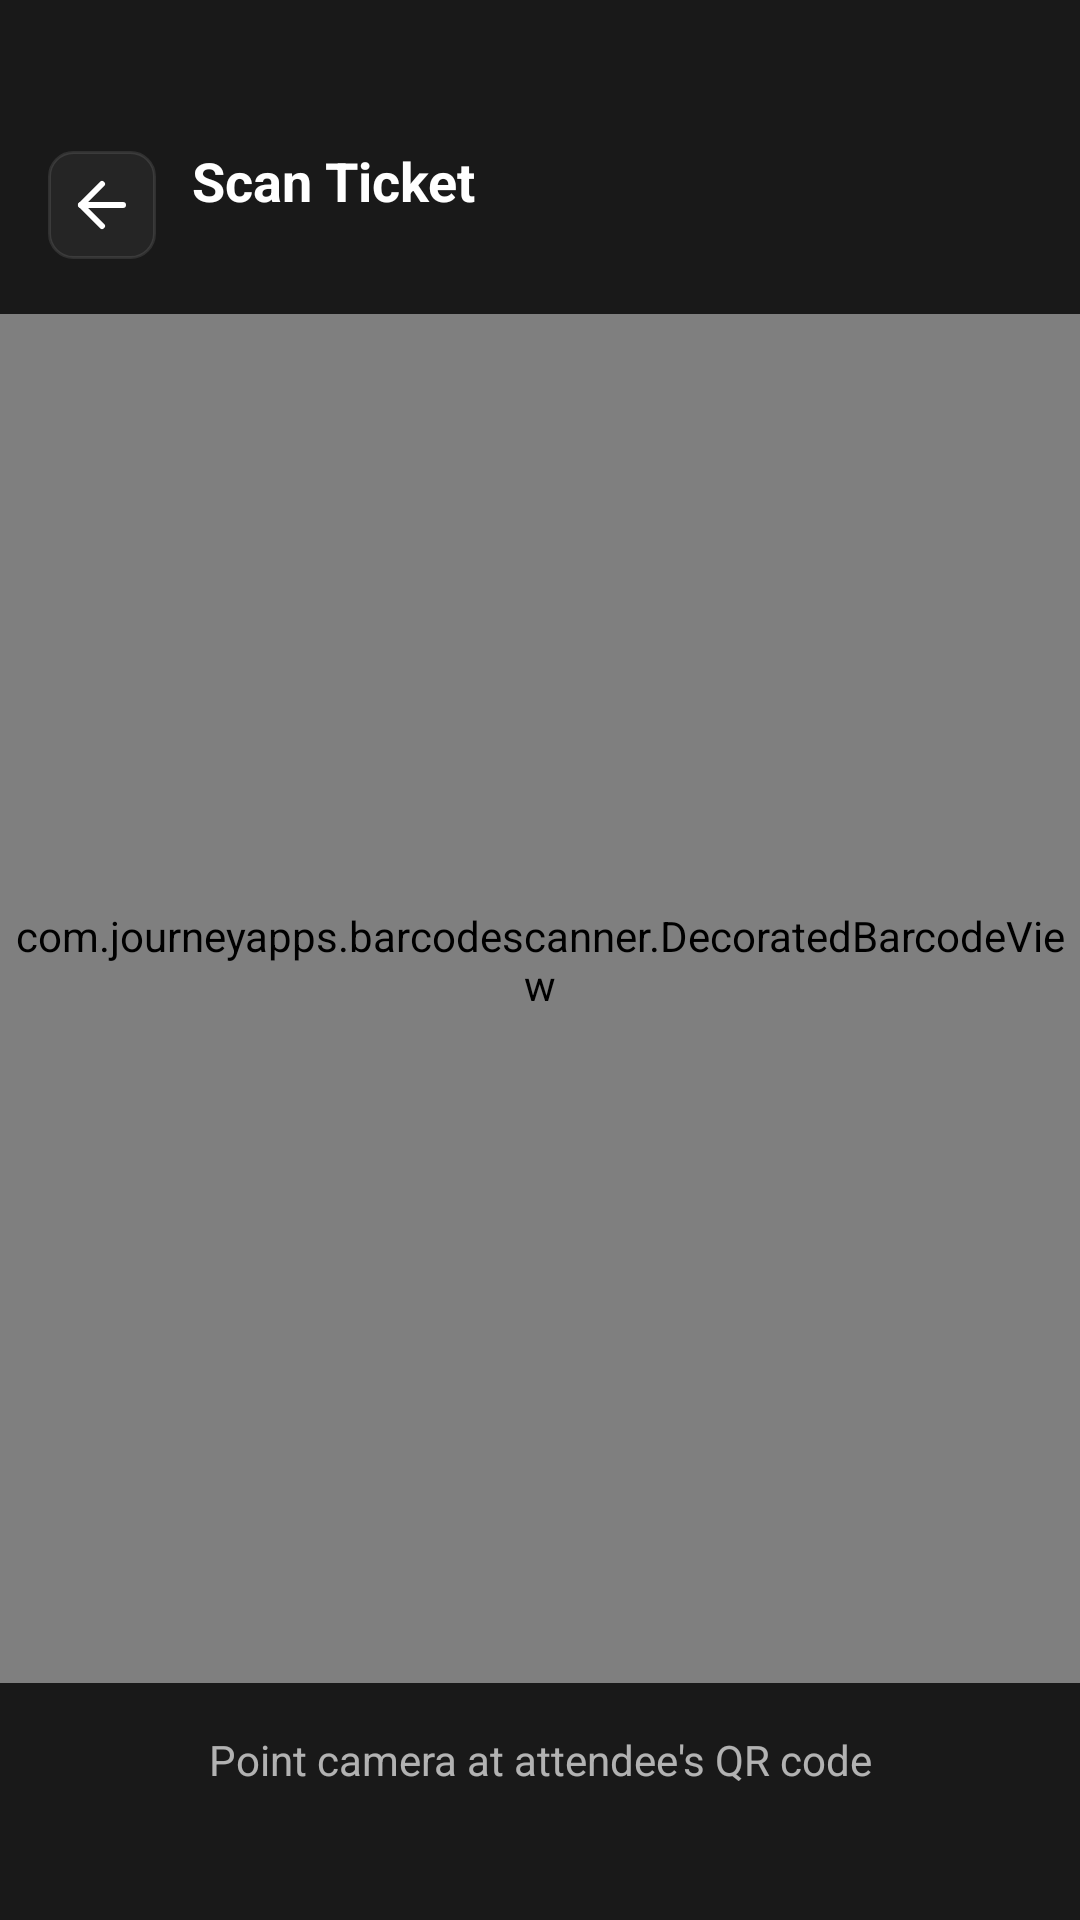

Where to tap for icons on this 1080w x 1920h app screen, as (x,y):
Back: (102,205)
